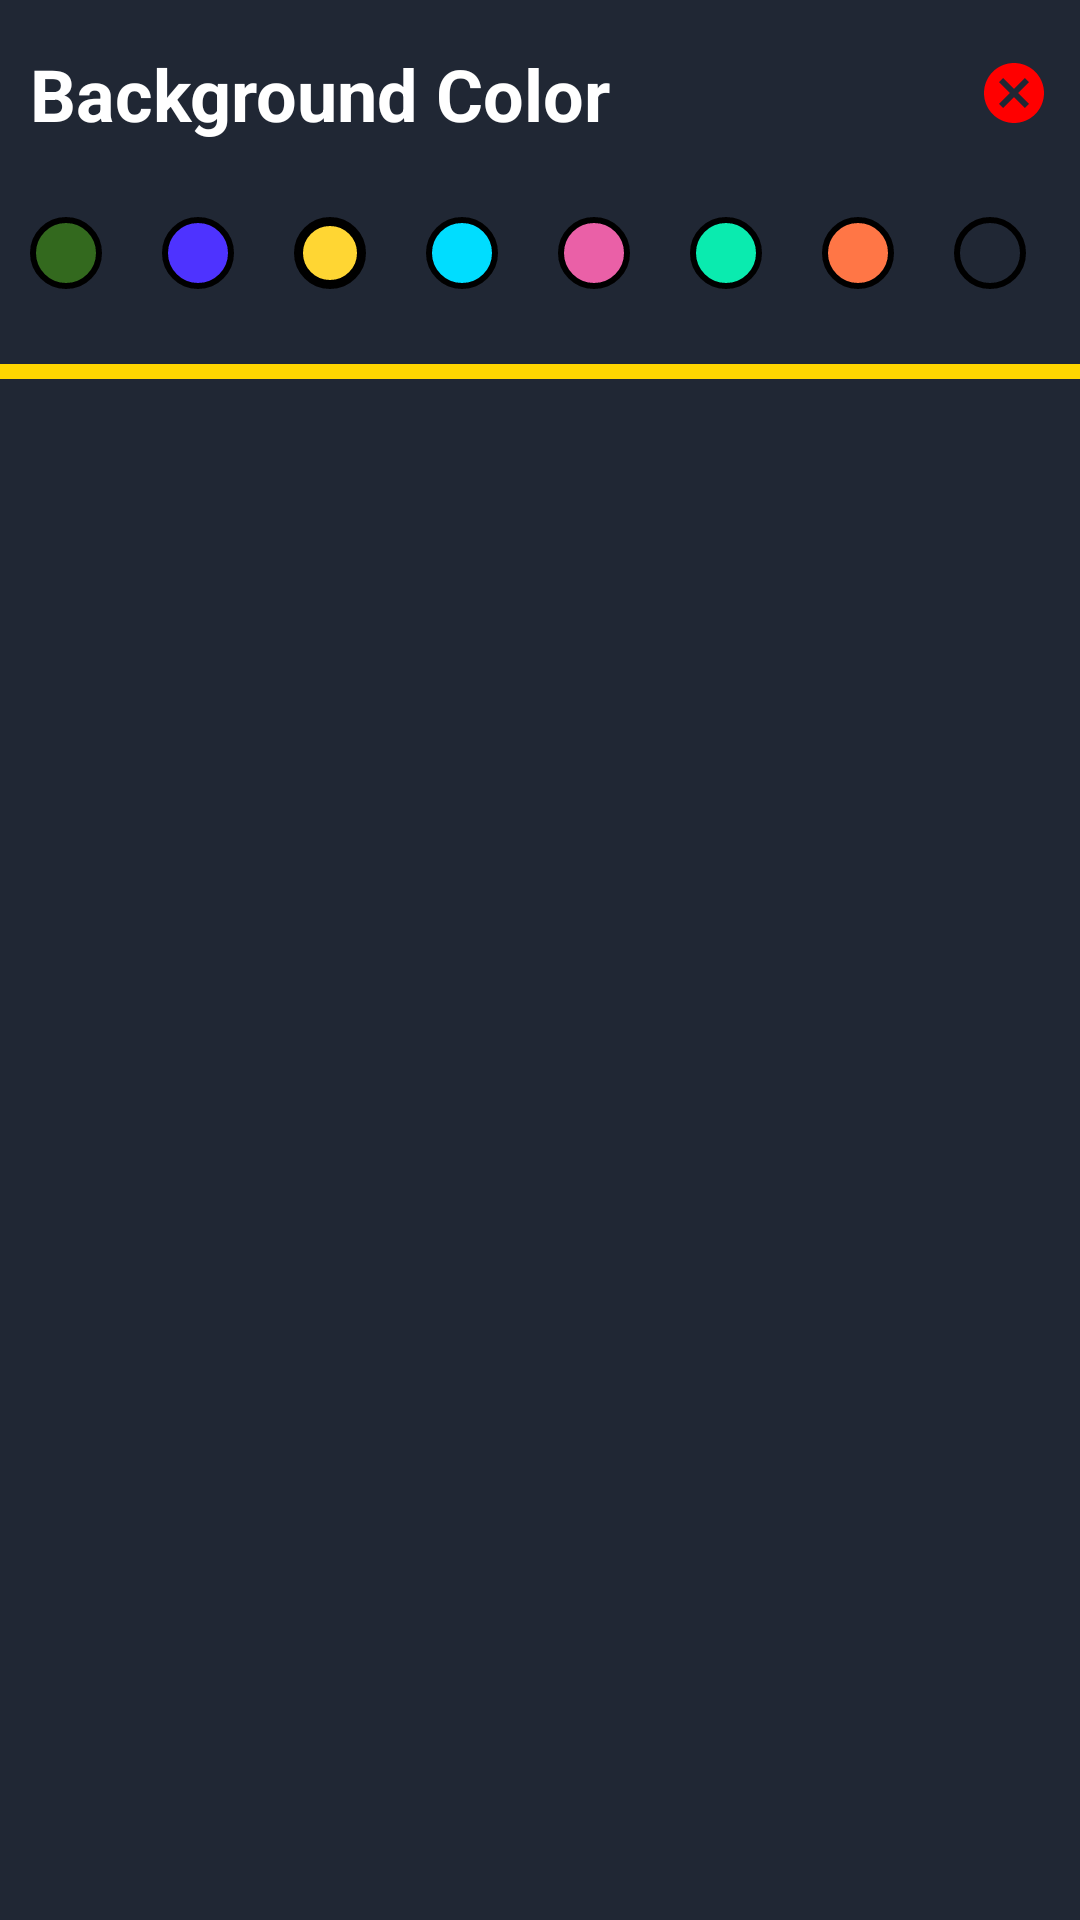

Icon bounding boxes for this 1080×1920 phone screenshot, format bbox=[x1, y1, x2, y2]:
cancel: bbox=[984, 63, 1044, 123]
